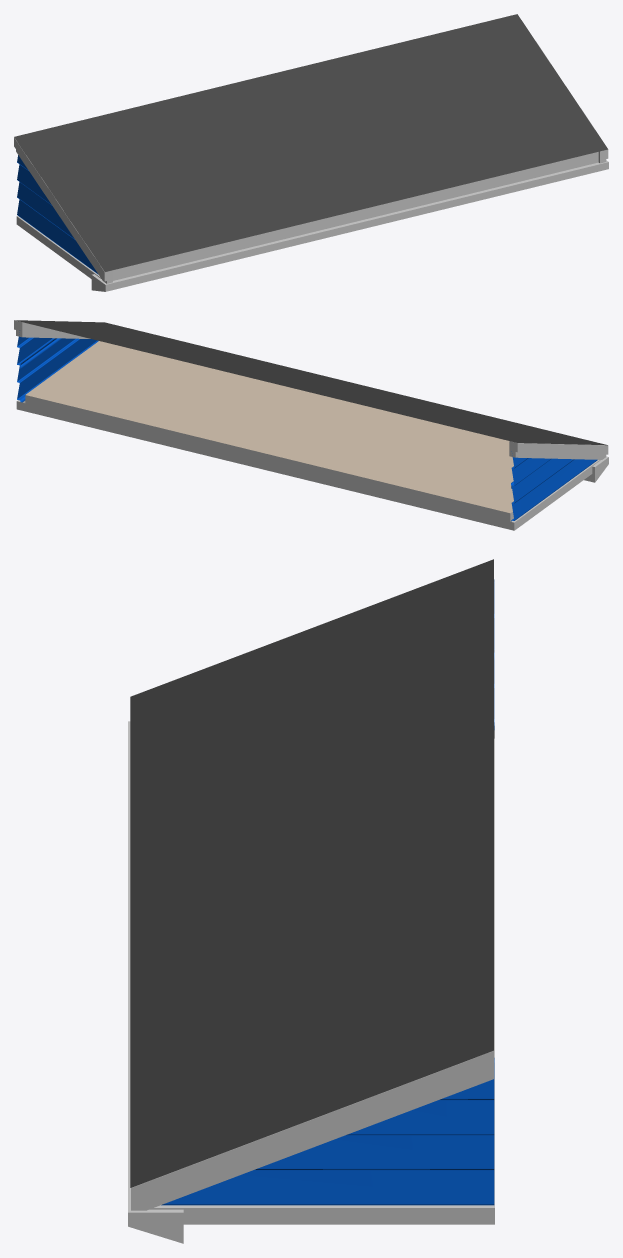
The model's file is Overhang.fbx.
3 renders of one model, top to bottom at view 1: azimuth 30°, elevation 25°; view 2: azimuth 150°, elevation 25°; view 3: azimuth 270°, elevation 25°, orthographic. The views are drawn at different scales.
Parts seen in each view (by area): view 1: Overhang_LOD0; view 2: Overhang_LOD0; view 3: Overhang_LOD0.
Boxes of the visible parts, x1,y1,x2,y2 form: Overhang_LOD0: (14, 14, 608, 291); Overhang_LOD0: (14, 320, 608, 530); Overhang_LOD0: (128, 559, 494, 1243).
Size of what is drawn, in the model's own units: 667 by 122 by 210.
